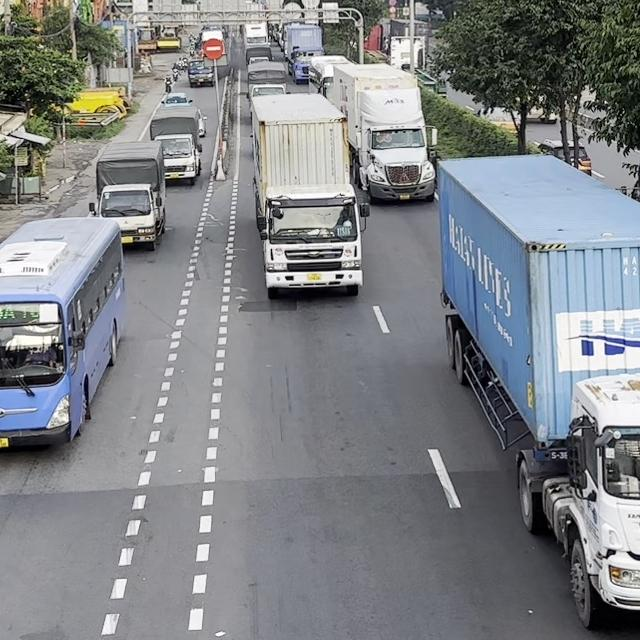bus: (0, 216, 127, 450), (307, 54, 354, 94)
car: (161, 92, 193, 105)
truck: (437, 152, 639, 640), (248, 92, 370, 298), (320, 62, 438, 203), (88, 140, 167, 251), (149, 106, 202, 185), (282, 23, 324, 75), (246, 59, 289, 98), (187, 56, 215, 87), (243, 22, 269, 48), (245, 45, 272, 64)
